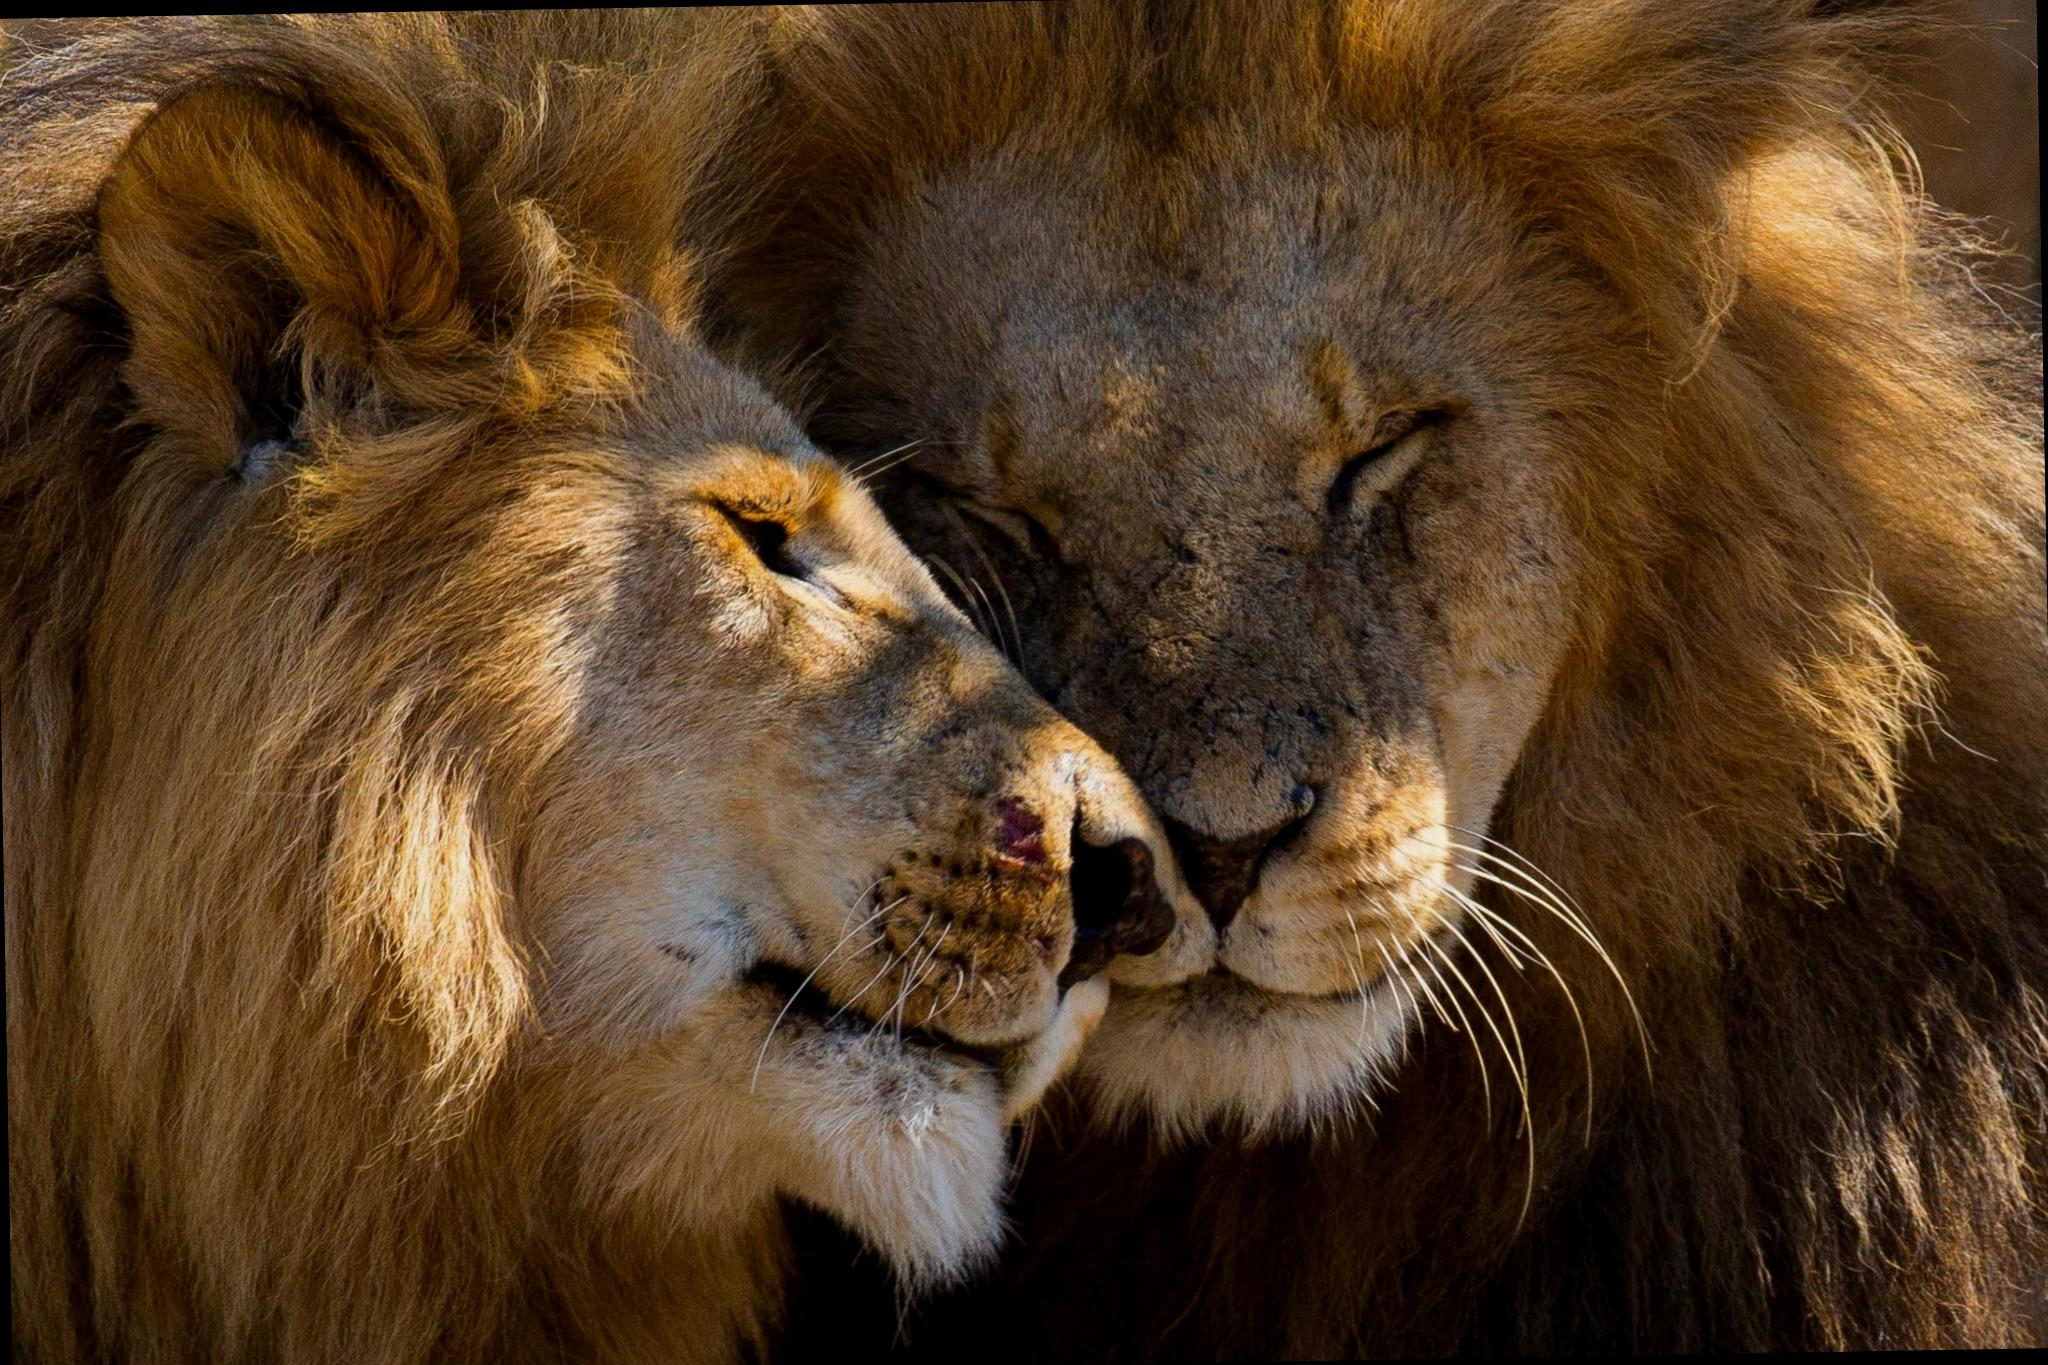lions: (24, 0, 2048, 1365)
